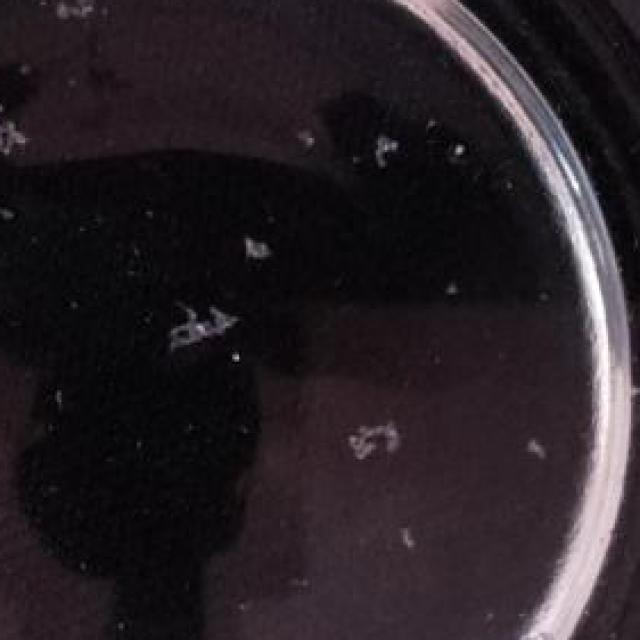Microplastic: (144, 307, 244, 352), (0, 92, 36, 185), (39, 0, 130, 31), (348, 414, 398, 466), (237, 214, 275, 267), (369, 124, 401, 169), (394, 521, 426, 566), (444, 133, 492, 162), (298, 112, 326, 152), (524, 421, 549, 457)
